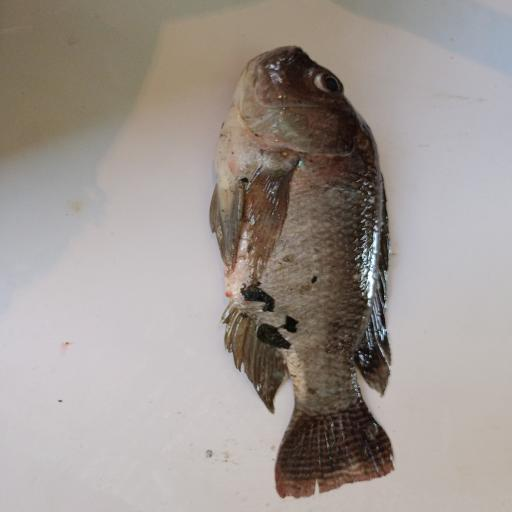Tilapia: (209, 45, 395, 499)
